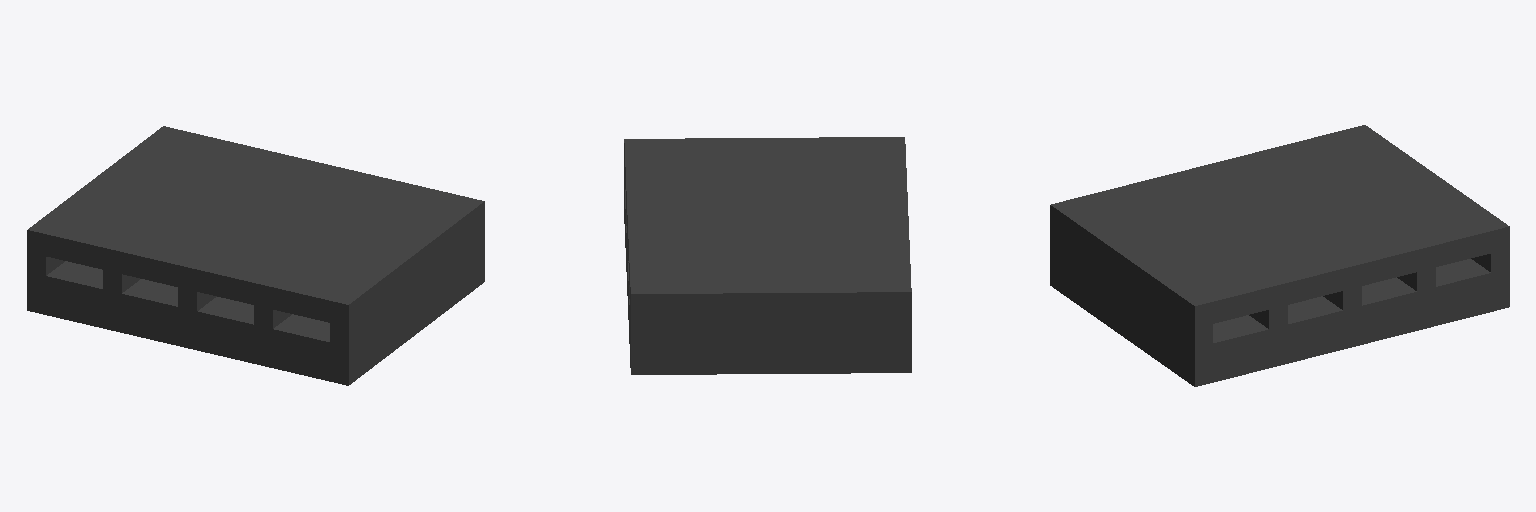
Rendered from footOld.obj.
The picture shows the model from 3 angles: view 1: azimuth 30°, elevation 25°; view 2: azimuth 150°, elevation 25°; view 3: azimuth 270°, elevation 25°; orthographic projection.
Parts seen in each view (by area): view 1: Frame_Foot1; view 2: Frame_Foot1; view 3: Frame_Foot1.
Part boxes in pixels (left/top/right/bottom): Frame_Foot1: left=27, top=126, right=484, bottom=385; Frame_Foot1: left=624, top=137, right=911, bottom=374; Frame_Foot1: left=1050, top=125, right=1509, bottom=386.
Size of the model in its own units: 2.24 by 0.4659 by 2.4.